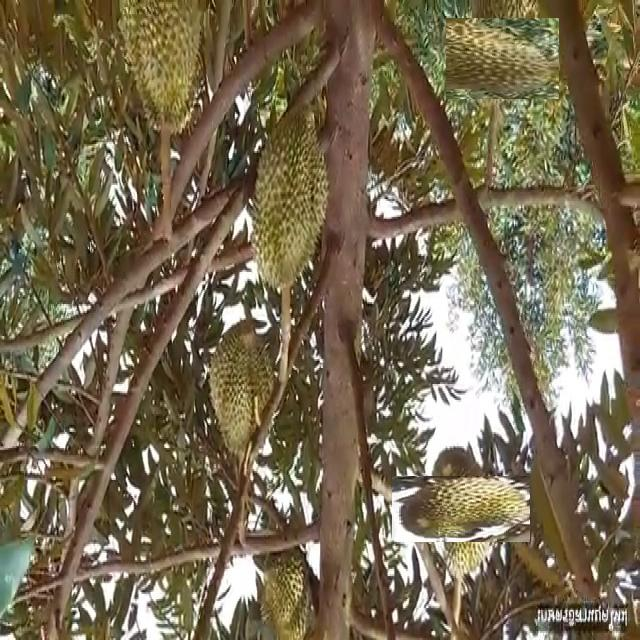durian: (245, 108, 331, 304), (116, 2, 210, 142), (205, 312, 279, 468), (410, 457, 512, 560), (454, 10, 551, 107), (256, 538, 316, 640)
